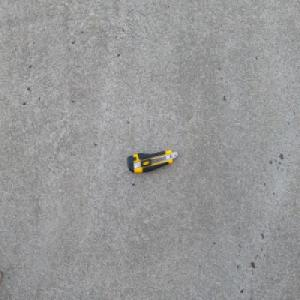Cutter: (126, 149, 178, 173)
